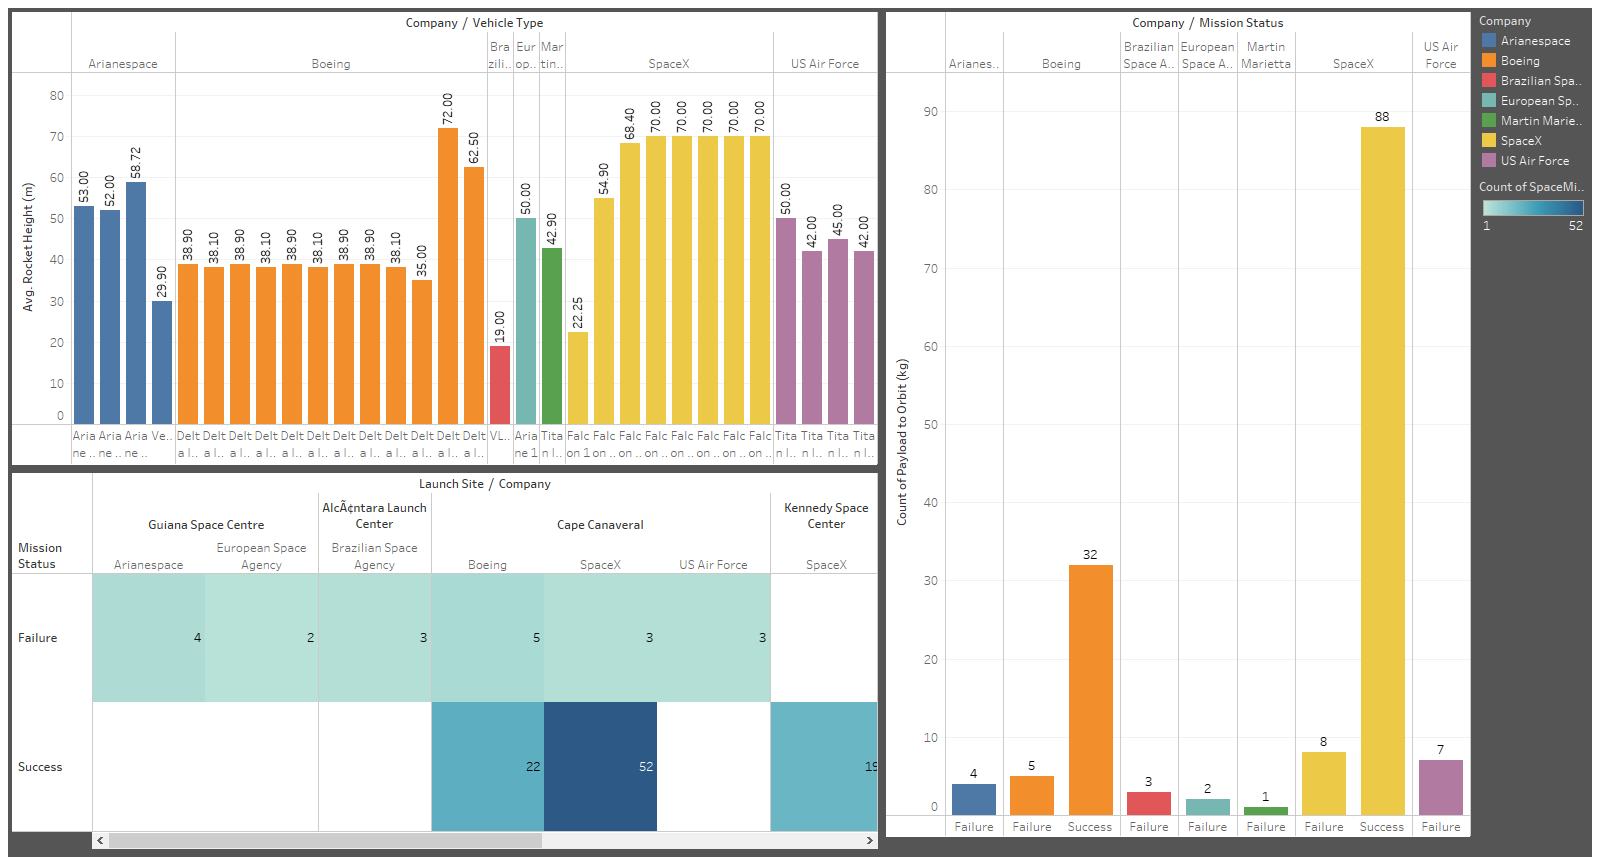

What the dashboard file says about the page in this screenshot:
{"tool":"tableau","page":{"name":"Dashboard 2","canvas":[1000,1000],"units":"permille","ordinal":1},"visuals":[{"type":"worksheet","title":"Launch Vehicle Details","mark":"Automatic","rows":["Rocket Height (m)"],"cols":["Company","Vehicle Type"],"box":[5.8,10.5,538.9,528.7]},{"type":"worksheet","title":"Mission Status Details","mark":"Automatic","rows":["Payload to Orbit (kg)"],"cols":["Company","Mission Status"],"box":[544.6,10.5,365.4,979.1]},{"type":"legend","title":"Launch Vehicle Details","param":"[federated.1jge4w916f9qkq1b7jlyw0vfbot0].[none:Company:nk]","box":[910,10.5,84.2,217.3]},{"type":"legend","title":"Track Records","param":"[federated.1jge4w916f9qkq1b7jlyw0vfbot0].[__tableau_internal_object_id__].[cnt:S","box":[910,227.8,84.2,85.1]},{"type":"worksheet","title":"Track Records","mark":"Square","rows":["Mission Status"],"cols":["Launch Site","Company"],"box":[5.8,539.2,538.9,450.3]}]}

Visuals, with their boxes on the dashboard's canvas, which has no fixed pixel size, in thousandths of its width and height (x1, y1, x2, y2). These are canvas units, not pixel positions in the 1600x857 screenshot, which may show the page scaled, cropped or inside an application window:
"Launch Vehicle Details" worksheet: 6/10/545/539
"Mission Status Details" worksheet: 545/10/910/990
"Launch Vehicle Details" legend: 910/10/994/228
"Track Records" legend: 910/228/994/313
"Track Records" worksheet (Square marks): 6/539/545/990
